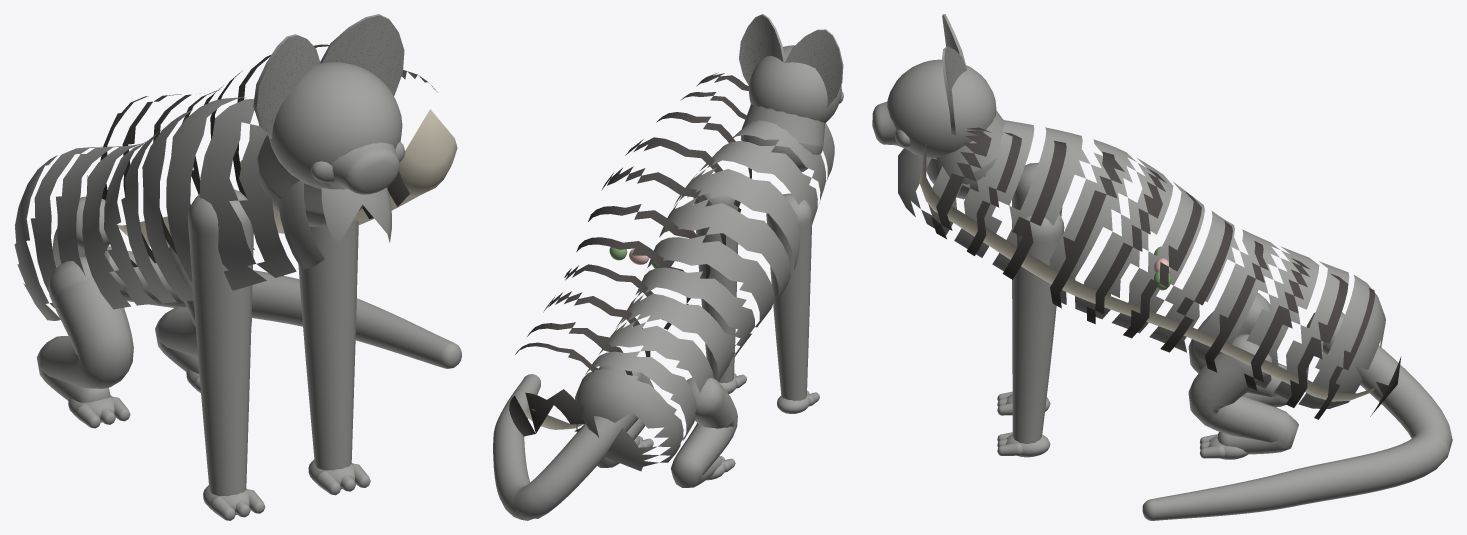
File: cat-domestic-shorthair.glb
3 views of the same model, side by side, from view 1: azimuth 30°, elevation 25°; view 2: azimuth 150°, elevation 25°; view 3: azimuth 270°, elevation 25° (orthographic). The views are drawn at different scales.
Parts seen in each view (by area): view 1: domestic-shorthair-sitting; view 2: domestic-shorthair-sitting; view 3: domestic-shorthair-sitting.
Boxes of the visible parts, left/top/right/bottom form: domestic-shorthair-sitting: left=14, top=14, right=461, bottom=520; domestic-shorthair-sitting: left=493, top=14, right=843, bottom=520; domestic-shorthair-sitting: left=872, top=14, right=1452, bottom=520.
Size of the model in its own units: 8259 by 11764 by 15188.
6 materials, 3 textured.
